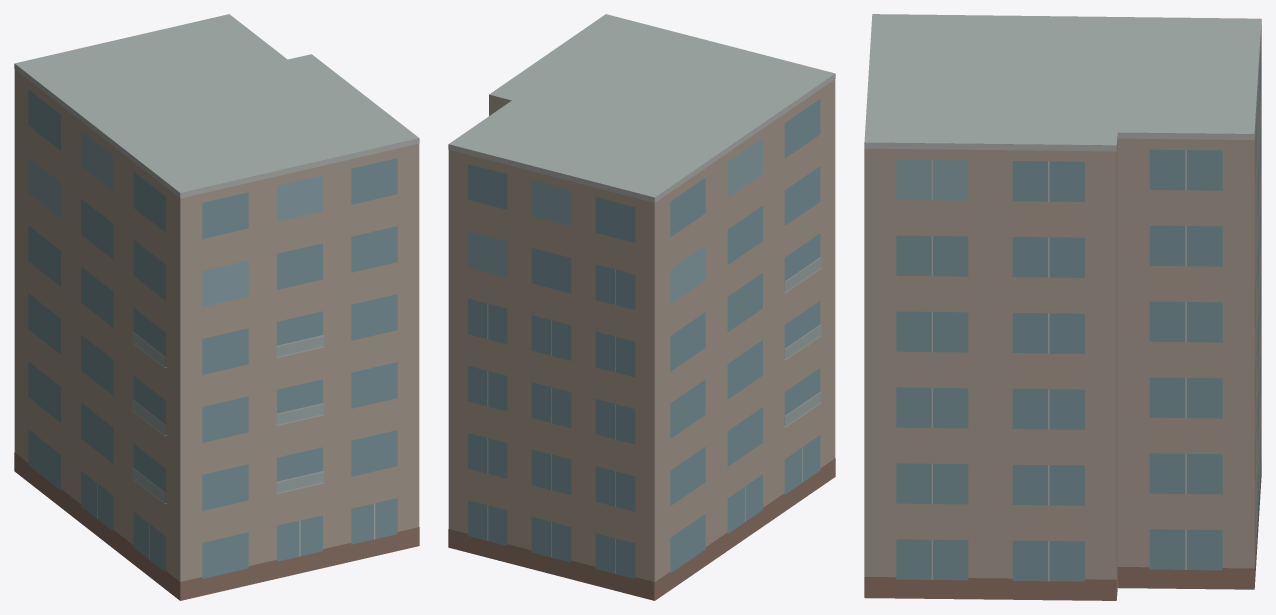
Rendered from survey-upis-32658009.glb.
The picture shows the model from 3 angles, left to right: view 1: azimuth 30°, elevation 25°; view 2: azimuth 150°, elevation 25°; view 3: azimuth 270°, elevation 25°; orthographic projection. The views are drawn at different scales.
Visible parts, largest first — view 1: survey-upis-32658009.tmp; view 2: survey-upis-32658009.tmp; view 3: survey-upis-32658009.tmp.
Boxes of the visible parts, left/top/right/bottom form: survey-upis-32658009.tmp: left=14, top=14, right=419, bottom=600; survey-upis-32658009.tmp: left=448, top=14, right=835, bottom=600; survey-upis-32658009.tmp: left=864, top=14, right=1261, bottom=600.
Bounding box in the file's own units: 11.2 × 18.1 × 14.31.
